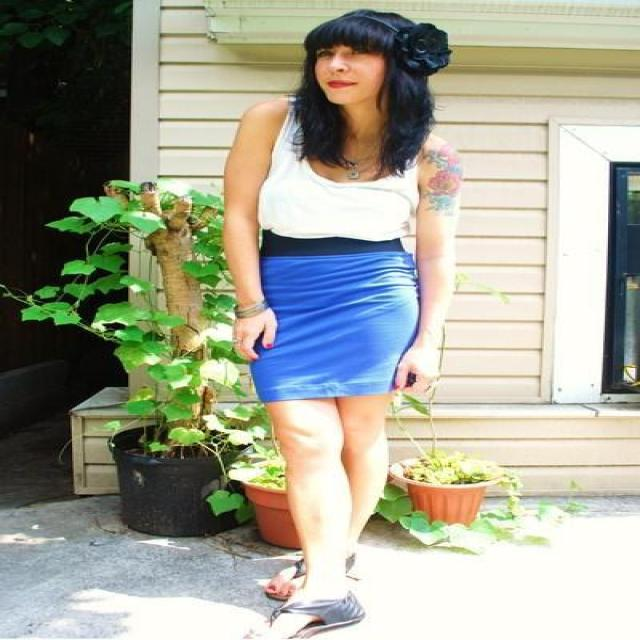shirt: (259, 115, 418, 266)
shoe: (288, 591, 363, 635)
skirt: (250, 252, 422, 401)
